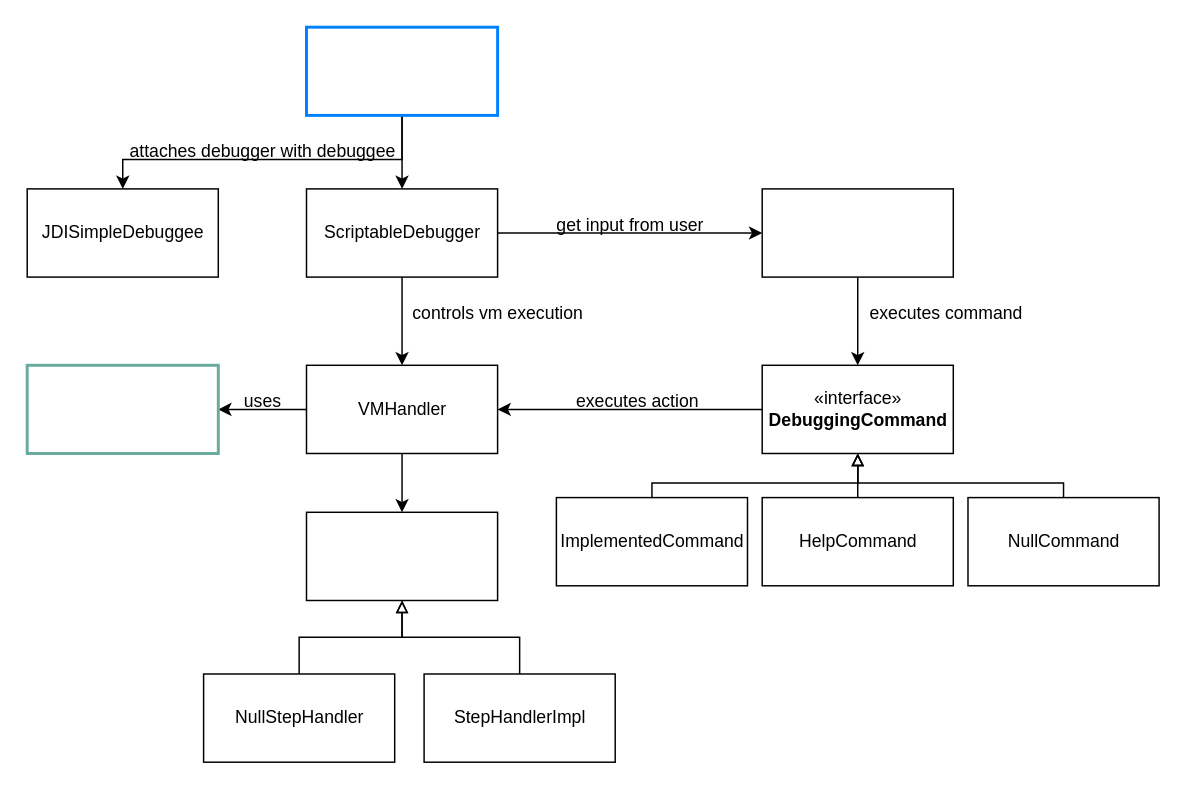
This 1185x788 diagram has some shape labels left out. The shapes that lost their labels are listed below. From the top down, each one's centre as x and y in pixels, then its label:
At pixel 401 70: "JDISimpleDebugger".
At pixel 857 232: "InputInterpreter".
At pixel 122 408: "JavaVM".
At pixel 401 555: "«interface» StepHandler".
